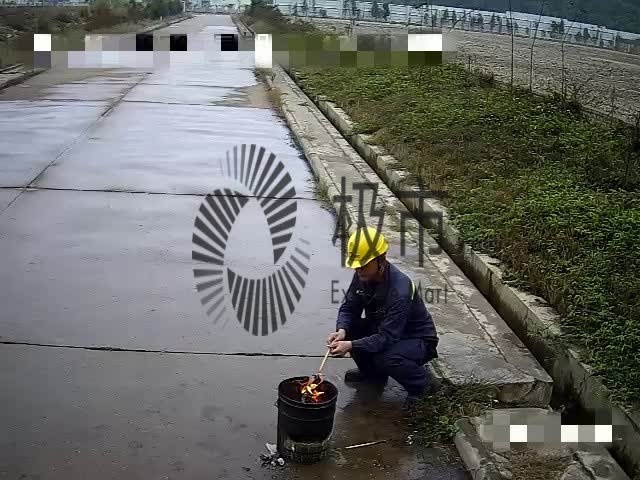fire: (296, 375, 327, 403)
